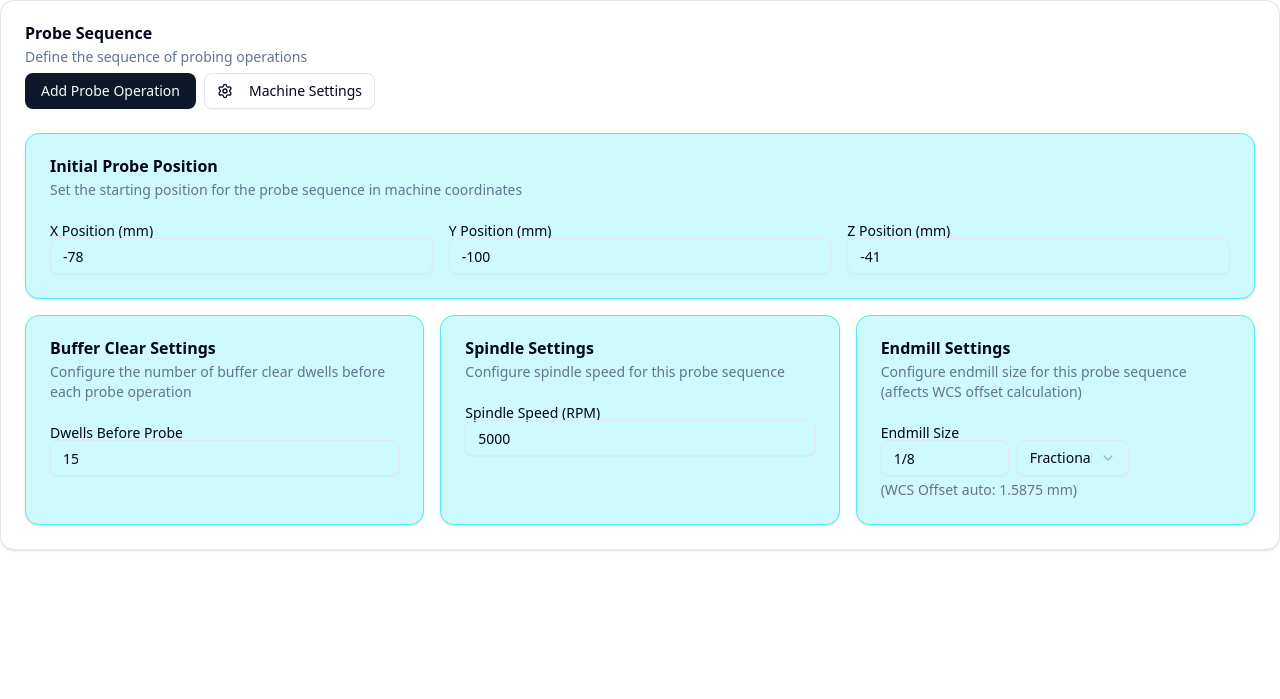
Test: ProbeSequence › adds a new probe operation
Click the button "Add Probe Operation" at (110, 91), box [25,73,196,109]
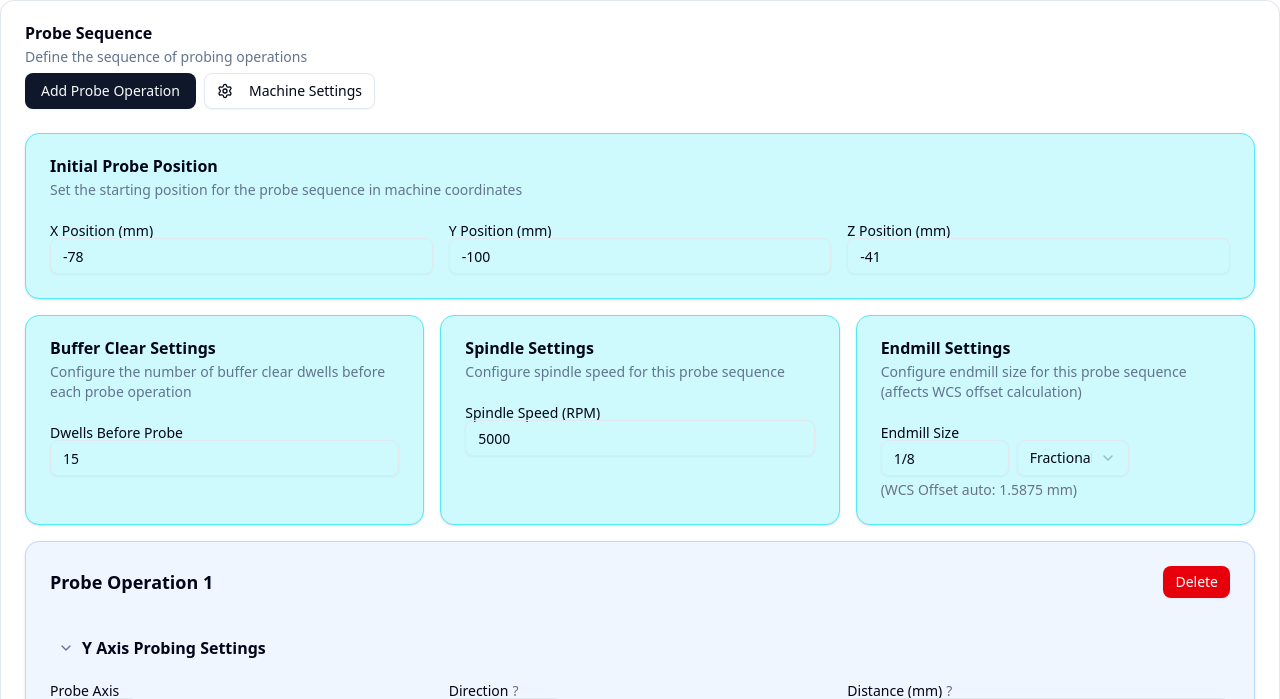
Result: the text "Probe Operation 1" is shown at [50,568,213,596]
